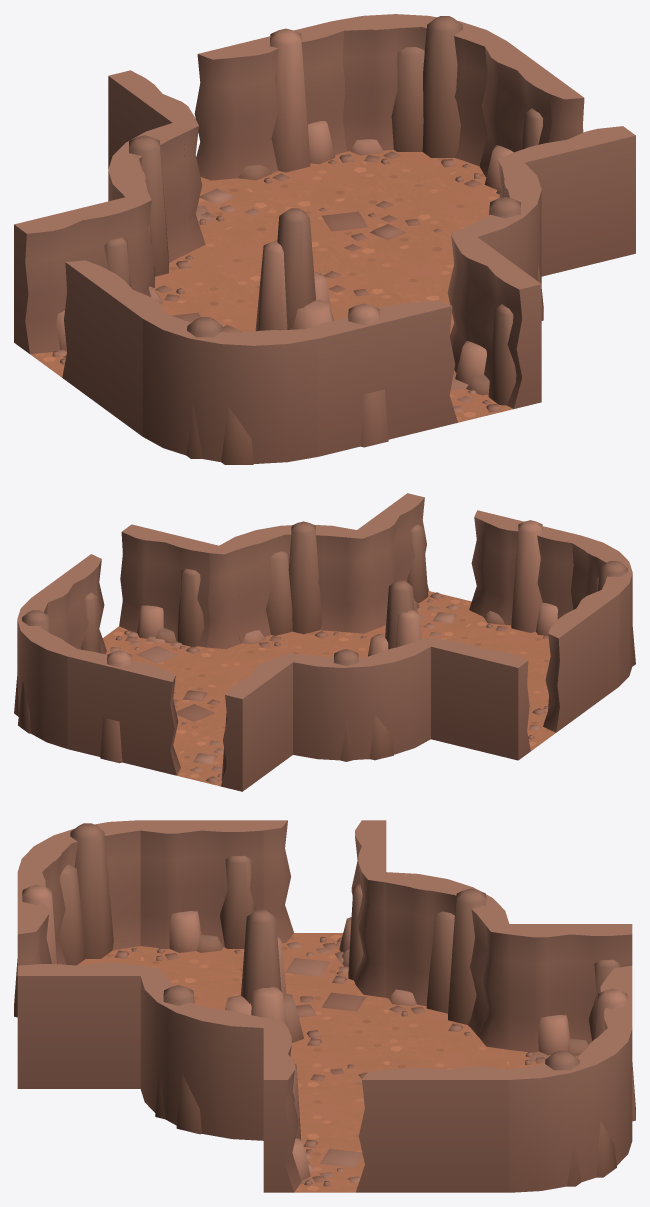
File: room-large-variation.glb
3 renders of one model, top to bottom at view 1: azimuth 30°, elevation 25°; view 2: azimuth 150°, elevation 25°; view 3: azimuth 270°, elevation 25°, orthographic. The views are drawn at different scales.
Visible parts, largest first — view 1: room-large-variation; view 2: room-large-variation; view 3: room-large-variation.
Part boxes in pixels (<box>): room-large-variation: <box>14,14,635,464</box>; room-large-variation: <box>14,493,635,791</box>; room-large-variation: <box>14,820,635,1192</box>.
Bounding box in the file's own units: 20 × 4.4 × 20.23.
Materials: 1 (1 with a texture image).
